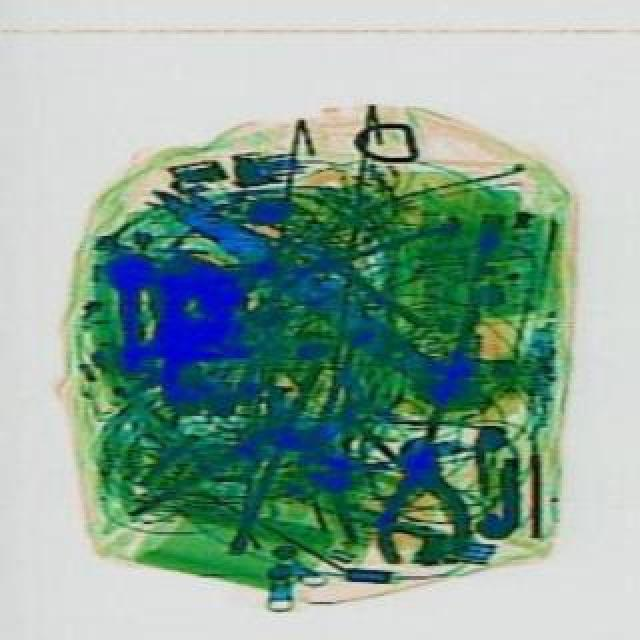wrench: (238, 202, 458, 324), (362, 432, 466, 564)
